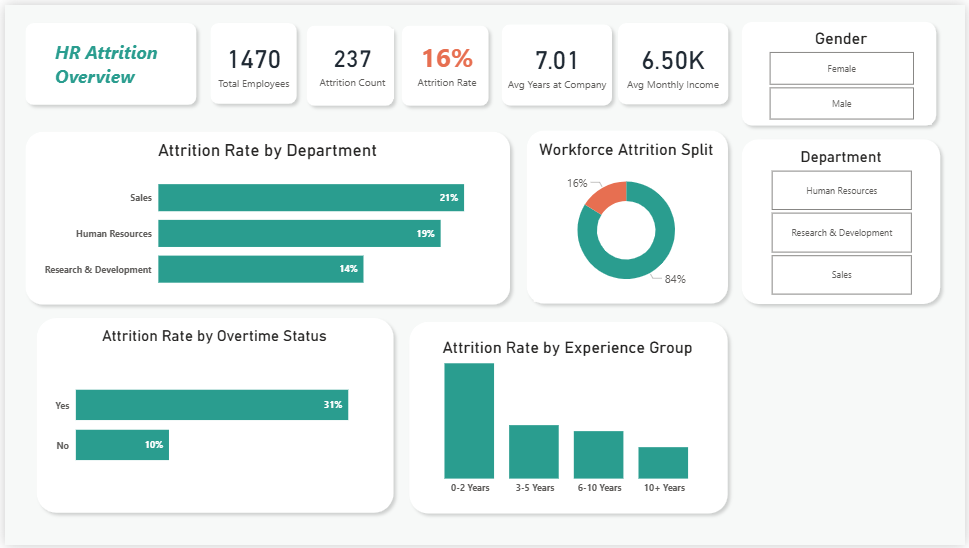

This screenshot's page, from the dashboard's own definition file:
{"tool":"powerbi","page":{"name":"Page 1","canvas":[1280,720],"ordinal":0},"visuals":[{"type":"shape","box":[972.5,170,282.5,237.5],"z":0},{"type":"shape","box":[972.9,13.7,277.2,156.4],"z":1000},{"type":"shape","box":[530,412.5,442.5,273.8],"z":2000},{"type":"shape","box":[32.5,408.8,493.8,277.5],"z":3000},{"type":"shape","box":[686.2,158.8,286.2,248.8],"z":4000},{"type":"shape","box":[17.8,159.2,664.2,248.4],"z":5000},{"type":"shape","box":[807.5,15,165,126.2],"z":6000},{"type":"shape","box":[653.8,16.2,165,126.2],"z":7000},{"type":"shape","box":[520,17.5,133.8,125],"z":8000},{"type":"shape","box":[392.5,17.5,133.8,125],"z":9000},{"type":"shape","box":[264.3,15.7,132.9,125.7],"z":10000},{"type":"card","fields":{"Values":["Measures (2).Attrition Count"]},"box":[407.5,31.2,110,93.8],"z":11000},{"type":"card","fields":{"Values":["Measures (2).Attrition Rate %"]},"box":[537.5,31.2,102.5,93.8],"z":12000},{"type":"card","fields":{"Values":["Measures (2).Avg Monthly Income"]},"box":[821.7,30,138.3,98.3],"z":13000},{"type":"card","fields":{"Values":["Measures (2).Avg Years at Company"]},"box":[665,33.8,142.5,92.5],"z":14000},{"type":"card","fields":{"Values":["Measures (2).Total Employees"]},"box":[279.1,31.8,107.3,93.6],"z":15000},{"type":"clusteredBarChart","title":"Attrition Rate by Department","fields":{"Category":["HR-Employee-Attrition.Department"],"Y":["Measures (2).Attrition Rate"]},"box":[46.7,174.3,606.5,220.9],"z":16000},{"type":"clusteredColumnChart","title":"Attrition Rate by Experience Group","fields":{"Category":["HR-Employee-Attrition.Experience Group"],"Y":["Measures (2).Attrition Rate"]},"box":[546.7,435,406.7,226.7],"z":17000},{"type":"donutChart","title":"Workforce Attrition Split","fields":{"Category":["HR-Employee-Attrition.Attrition"],"Y":["CountNonNull(HR-Employee-Attrition.EmployeeNumber)"]},"box":[705.3,174.3,247,220.9],"z":18000},{"type":"slicer","title":"Department","fields":{"Values":["HR-Employee-Attrition.Department"]},"box":[1001.2,186.2,226.2,206.2],"z":19000},{"type":"clusteredBarChart","title":"Attrition Rate by Overtime Status","fields":{"Category":["HR-Employee-Attrition.OverTime"],"Y":["Measures (2).Attrition Rate"]},"box":[61.7,423.3,435,238.3],"z":20000},{"type":"slicer","title":"Gender","fields":{"Values":["HR-Employee-Attrition.Gender"]},"box":[993.6,30.9,242.7,128.2],"z":21000},{"type":"shape","box":[18.6,14.3,245.7,127.1],"z":22000},{"type":"textbox","box":[61.7,41.7,161.7,76.7],"z":23000}]}

Visuals, with their boxes in screenshot pixels (x1, y1, x2, y2), scaled from the page's 1280x720 canvas onto the 969x548 screenshot:
shape: box(736, 129, 950, 310)
shape: box(737, 10, 946, 129)
shape: box(401, 314, 736, 522)
shape: box(25, 311, 398, 522)
shape: box(519, 121, 736, 310)
shape: box(13, 121, 516, 310)
shape: box(611, 11, 736, 107)
shape: box(495, 12, 620, 108)
shape: box(394, 13, 495, 108)
shape: box(297, 13, 398, 108)
shape: box(200, 12, 301, 108)
card - Measures (2).Attrition Count: box(308, 24, 392, 95)
card - Measures (2).Attrition Rate %: box(407, 24, 484, 95)
card - Measures (2).Avg Monthly Income: box(622, 23, 727, 98)
card - Measures (2).Avg Years at Company: box(503, 26, 611, 96)
card - Measures (2).Total Employees: box(211, 24, 293, 95)
"Attrition Rate by Department" clusteredBarChart: box(35, 133, 494, 301)
"Attrition Rate by Experience Group" clusteredColumnChart: box(414, 331, 722, 504)
"Workforce Attrition Split" donutChart: box(534, 133, 721, 301)
"Department" slicer: box(758, 142, 929, 299)
"Attrition Rate by Overtime Status" clusteredBarChart: box(47, 322, 376, 504)
"Gender" slicer: box(752, 24, 936, 121)
shape: box(14, 11, 200, 108)
textbox: box(47, 32, 169, 90)
